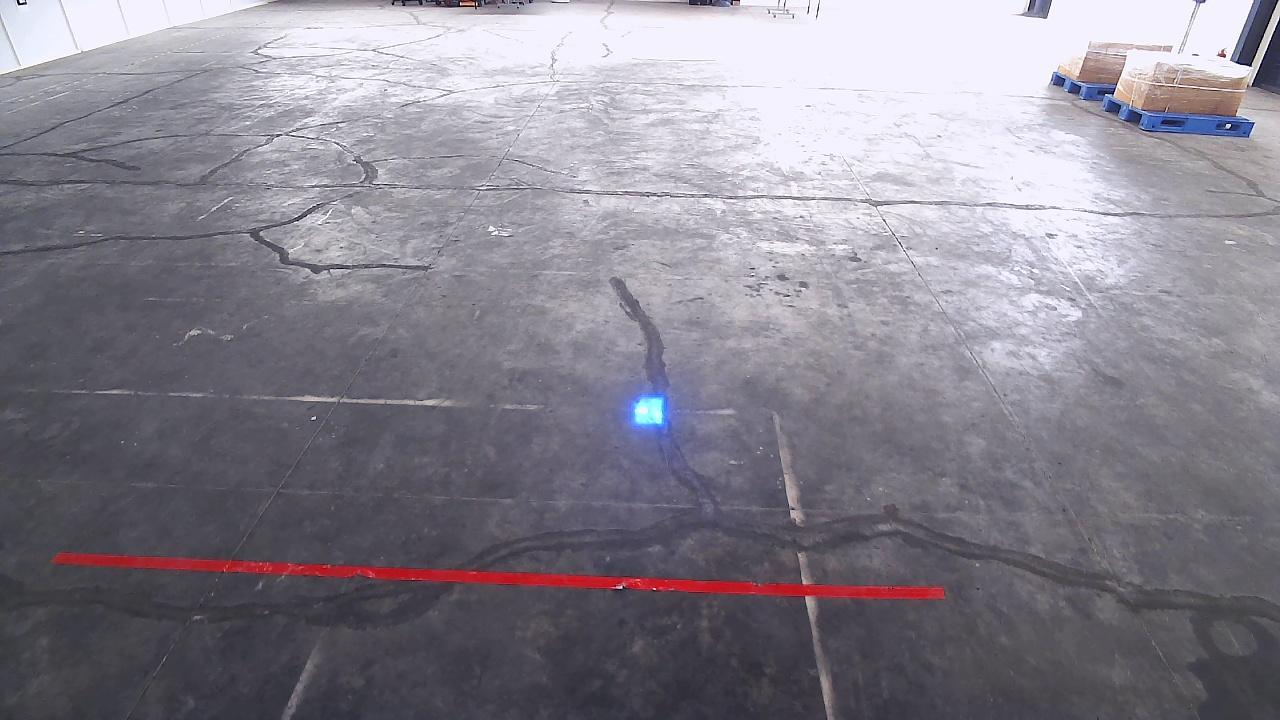red_line: (53, 551, 947, 598)
